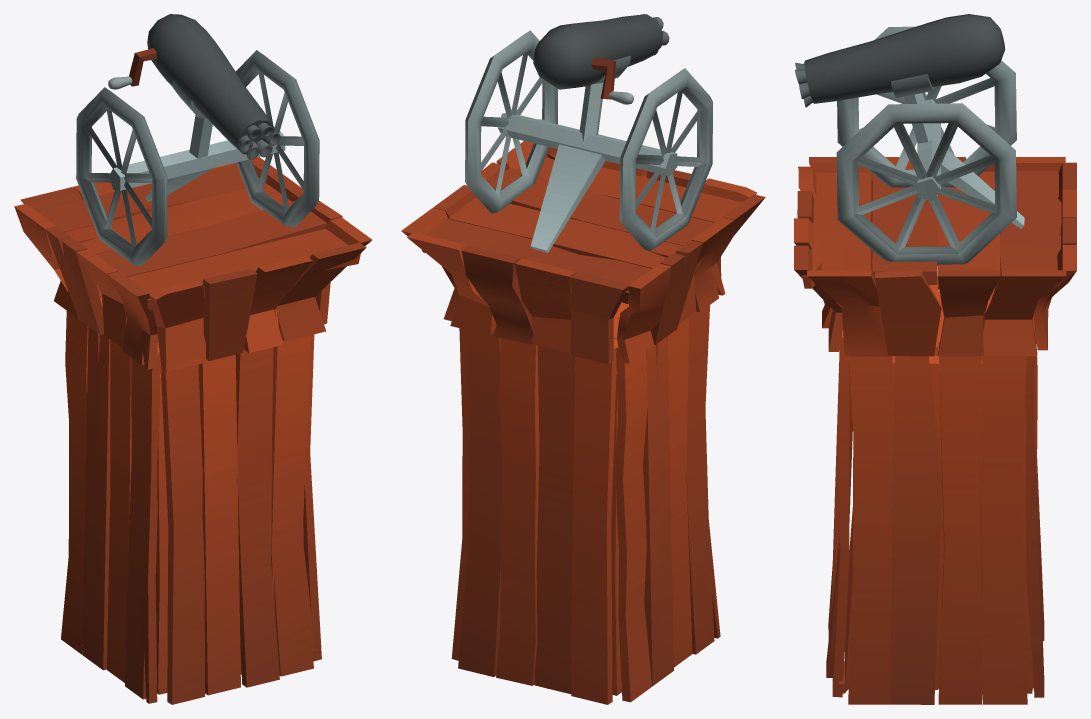
File: m_towerGatling_01.fbx
3 views of the same model, side by side, from view 1: azimuth 30°, elevation 25°; view 2: azimuth 150°, elevation 25°; view 3: azimuth 270°, elevation 25° (orthographic). The views are drawn at different scales.
Visible parts, largest first — view 1: Cube, Tower.001, Canon; view 2: Cube, Tower.001, Canon; view 3: Cube, Tower.001, Canon.
Boxes of the visible parts, x1,y1,x2,y2 form: Cube: (61, 285, 321, 704); Tower.001: (14, 157, 372, 372); Canon: (76, 14, 319, 266); Cube: (451, 302, 720, 704); Tower.001: (401, 141, 765, 364); Canon: (465, 14, 712, 252); Cube: (826, 259, 1044, 704); Tower.001: (794, 157, 1076, 356); Canon: (795, 14, 1024, 265).
Size of the model in its own units: 288 by 718 by 285.
